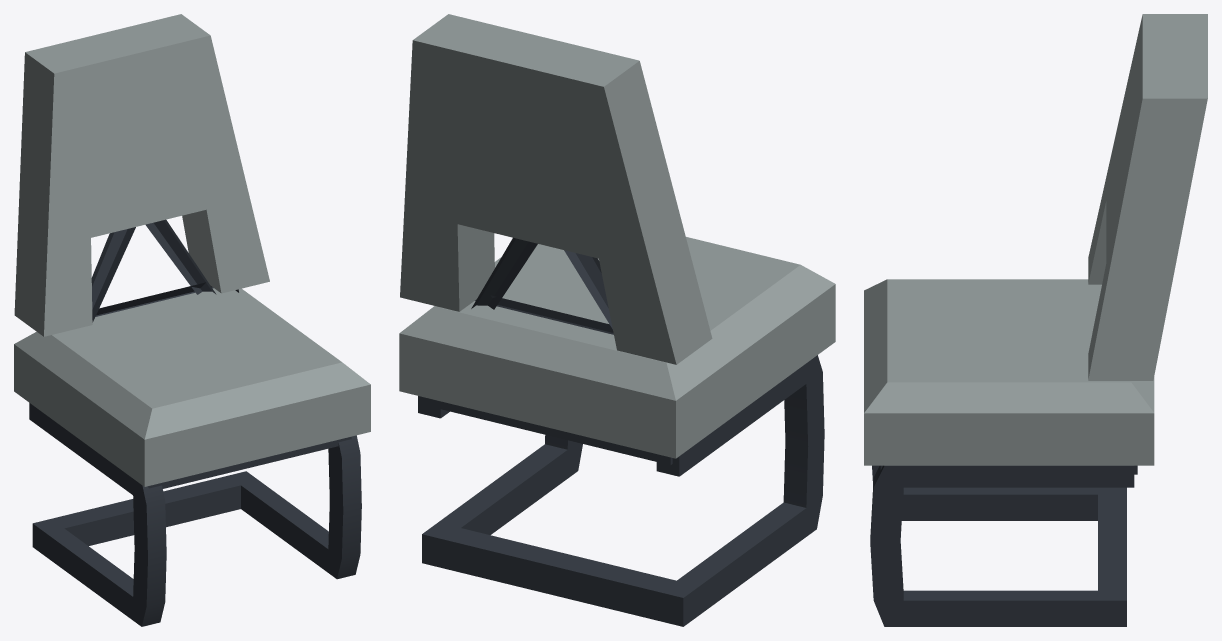
The model's file is mdlMedBayChair.fbx.
The picture shows the model from 3 angles, left to right: view 1: azimuth 30°, elevation 25°; view 2: azimuth 150°, elevation 25°; view 3: azimuth 270°, elevation 25°; orthographic projection. The views are drawn at different scales.
Visible parts, largest first — view 1: MeshChair; view 2: MeshChair; view 3: MeshChair.
Part boxes in pixels (bbox=[...]): MeshChair: bbox=[14, 14, 370, 626]; MeshChair: bbox=[399, 14, 835, 626]; MeshChair: bbox=[864, 14, 1207, 626].
Size of the model in its own units: 2 by 3.9 by 2.37.
